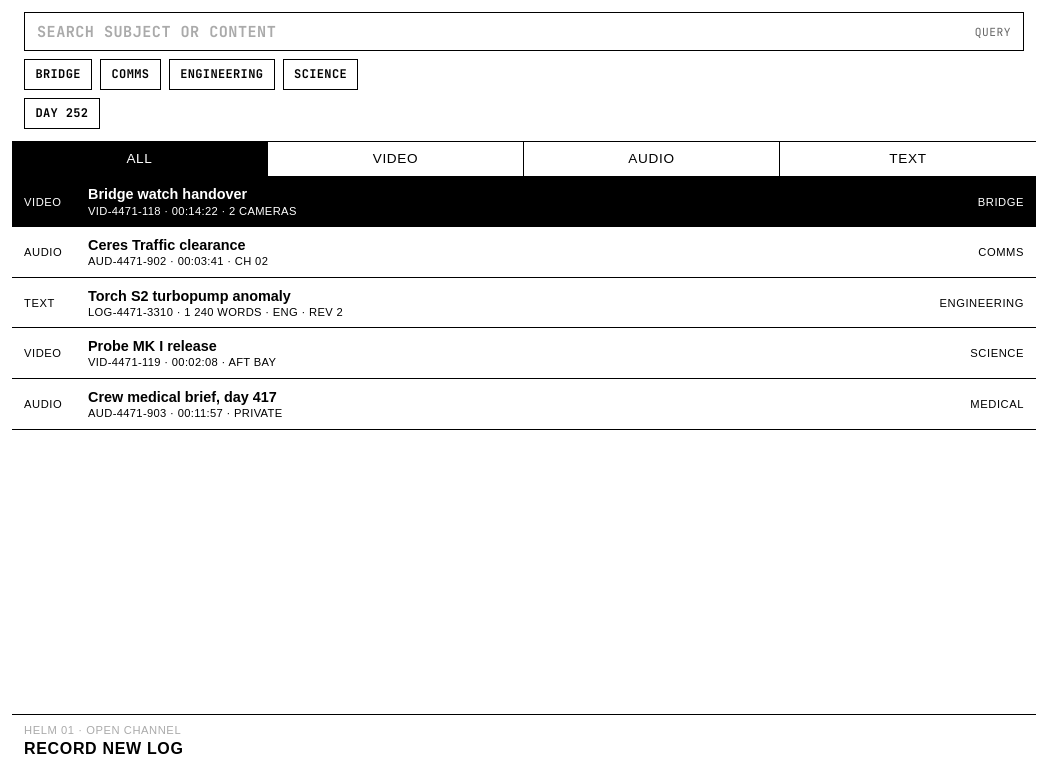
Test: LogList › filters the list by a subject/content search query
Type "turbopump" into the search field named "Search logs" at (502, 32), box [37,21,967,42]
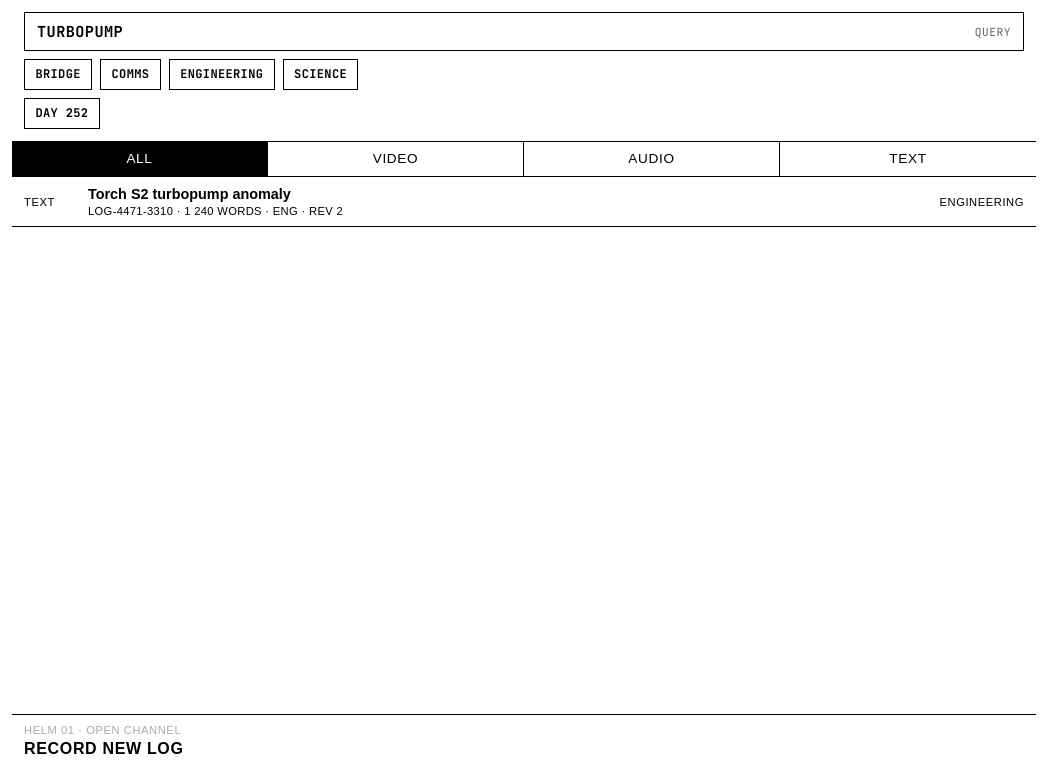
Expected: the text "Torch S2 turbopump anomaly" is shown, [88,186,291,202]
Expected: the button "Bridge watch handover" is gone
